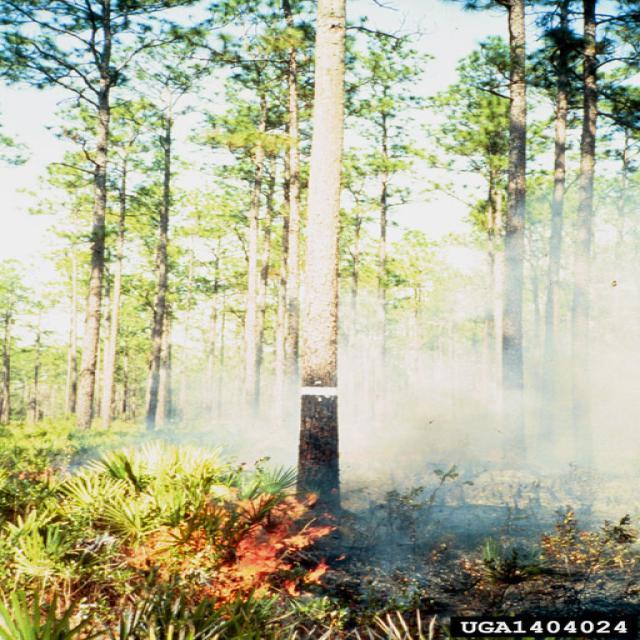Fire: (121, 485, 342, 620)
